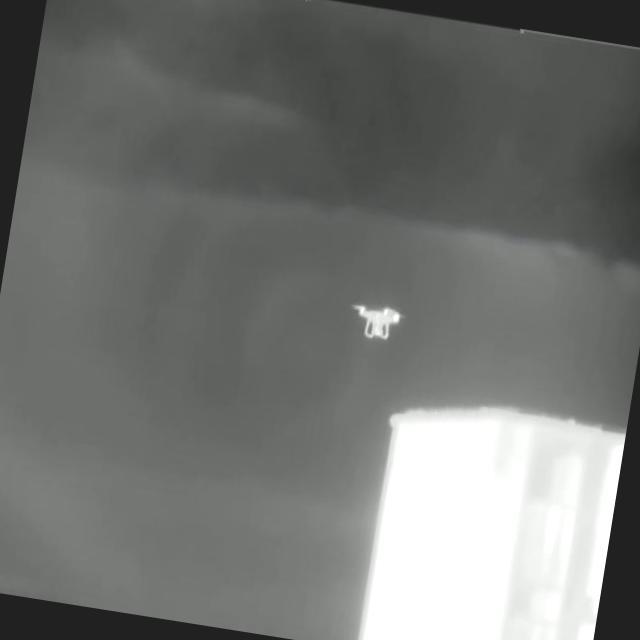DRONE: (351, 298, 408, 343)
